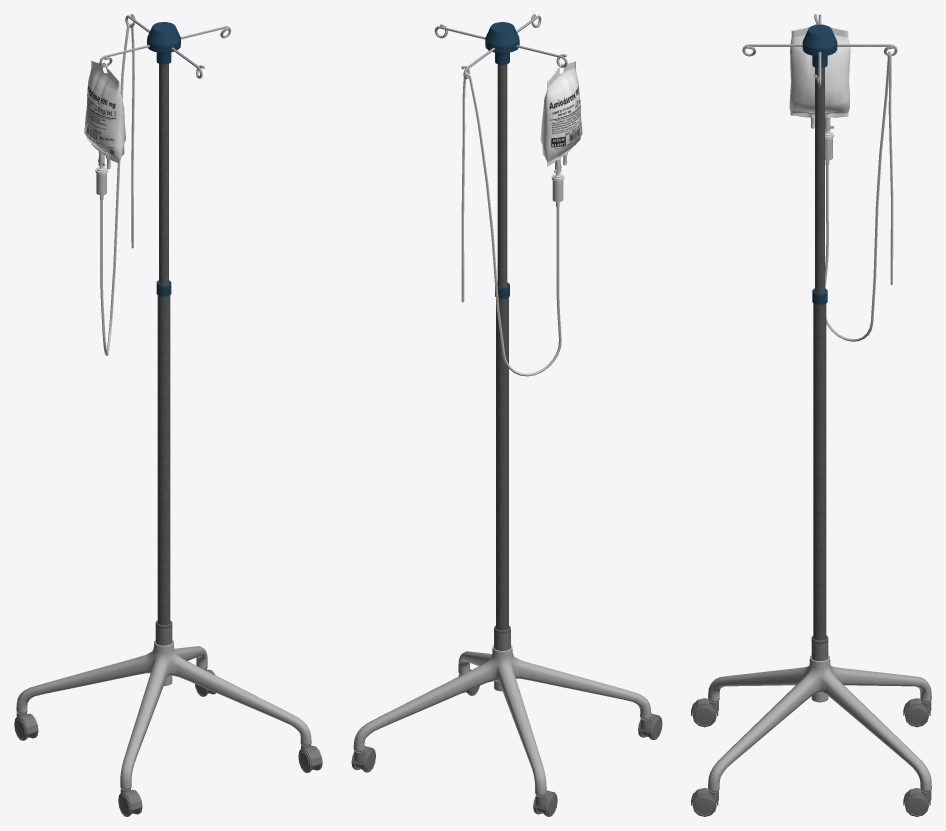
File: hospital-drip-system.glb
3 views of the same model, side by side, from view 1: azimuth 30°, elevation 25°; view 2: azimuth 150°, elevation 25°; view 3: azimuth 270°, elevation 25° (orthographic). The views are drawn at different scales.
Parts seen in each view (by area): view 1: Intravenous Drip, Drip_Therapy_Bag, Drip_System.001; view 2: Intravenous Drip, Drip_Therapy_Bag, Drip_System.001; view 3: Intravenous Drip, Drip_Therapy_Bag, Drip_System.001.
Boxes of the visible parts, x1,y1,x2,y2 form: Intravenous Drip: [14, 14, 322, 816]; Drip_Therapy_Bag: [84, 60, 125, 164]; Drip_System.001: [95, 23, 134, 355]; Intravenous Drip: [351, 14, 662, 816]; Drip_Therapy_Bag: [540, 61, 582, 166]; Drip_System.001: [461, 73, 567, 376]; Intravenous Drip: [691, 14, 931, 816]; Drip_Therapy_Bag: [789, 23, 850, 118]; Drip_System.001: [810, 51, 893, 341].
Size of the model in its own units: 0.6441 by 2.3 by 0.6774.
8 materials, 6 textured.
